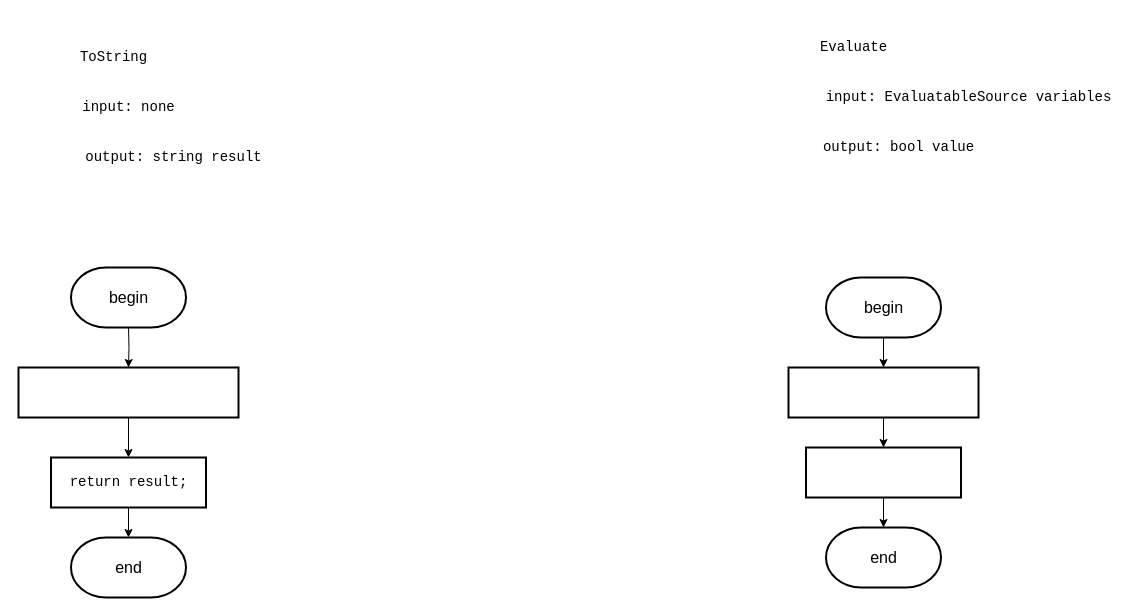
The diagram is 1130 pixels wide and 615 high, and some of its shapes have lost their labels. Each missing label, with the centre of its shape:
bool value = true ;: (883,392)
return value ;: (883,472)
string result = "1" ;: (128,392)
